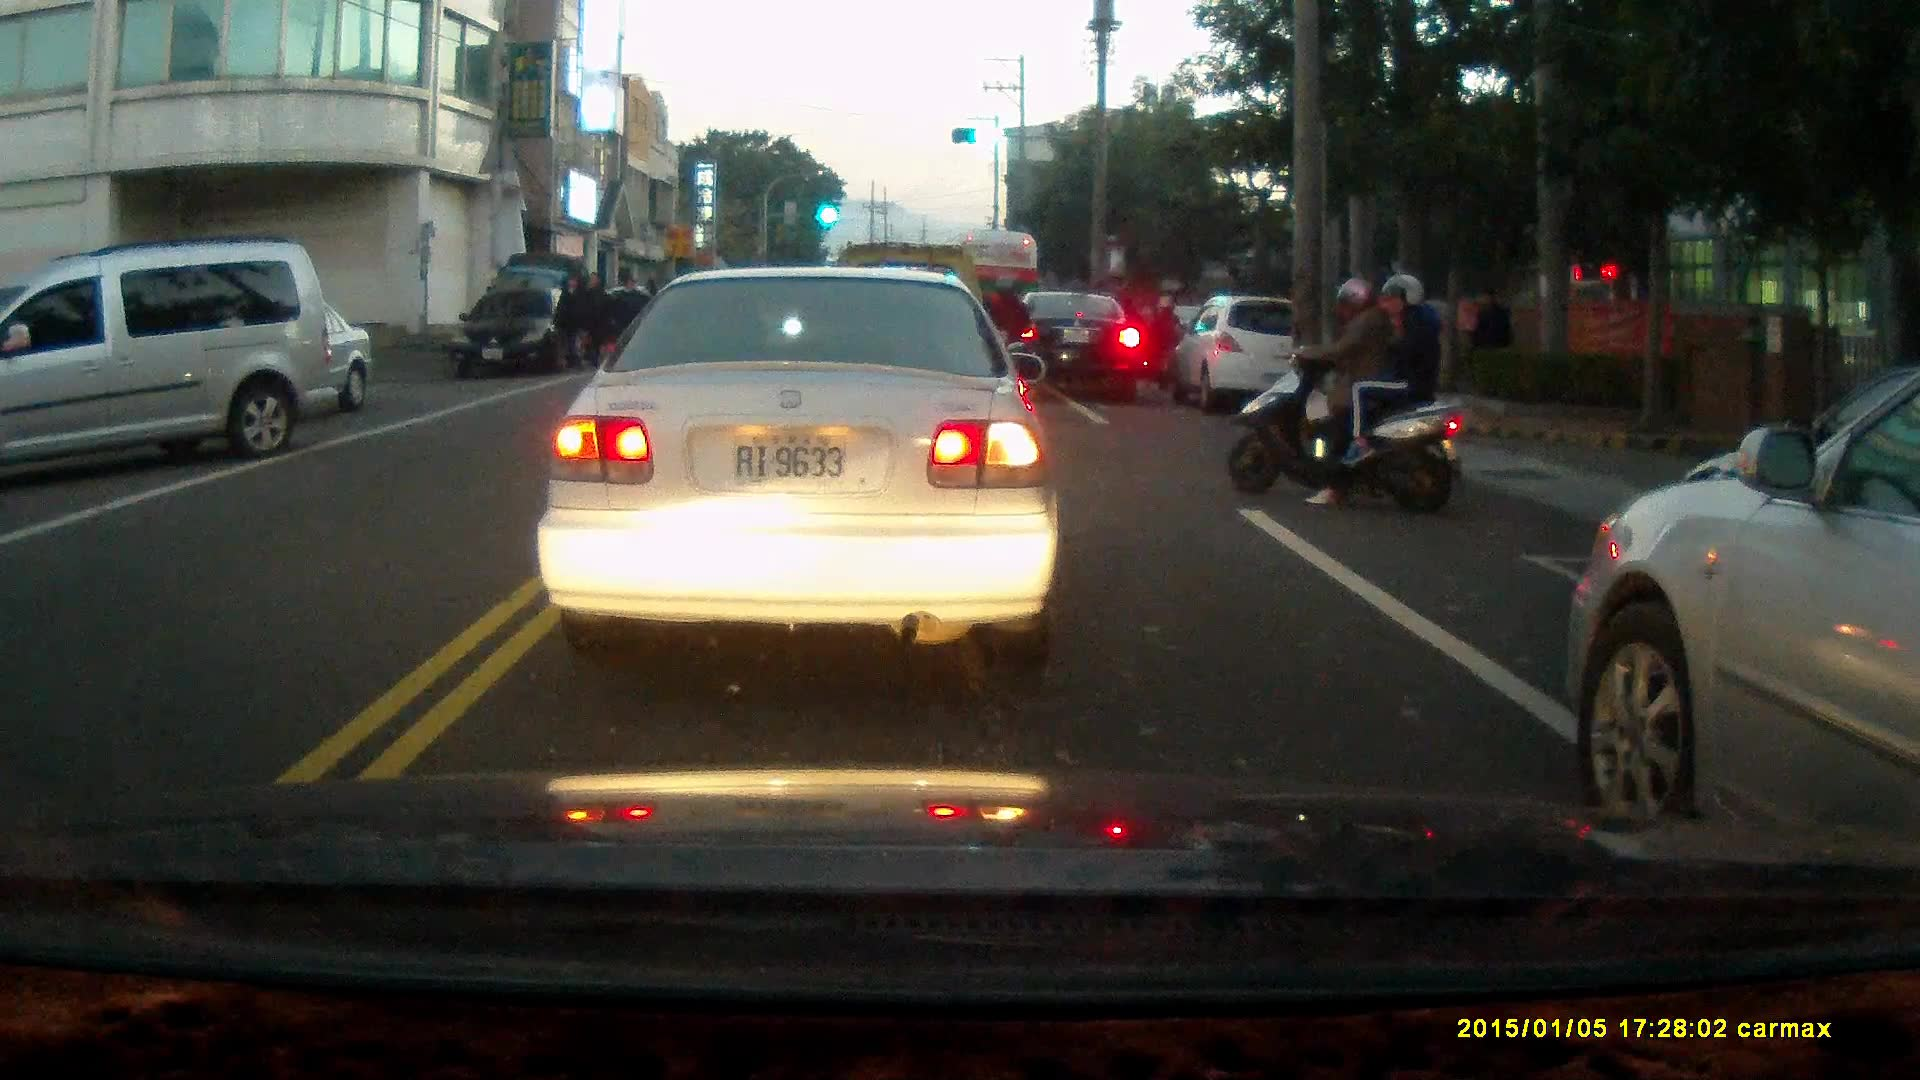pedestrian: (1466, 281, 1512, 382), (553, 270, 590, 375), (572, 272, 604, 376), (611, 275, 642, 364)
rider: (1219, 269, 1465, 522), (977, 271, 1035, 395), (1148, 290, 1185, 390)
vehicle: (536, 259, 1065, 679), (1565, 366, 1920, 851), (1, 243, 336, 481), (1180, 295, 1328, 404), (1007, 290, 1145, 401), (447, 284, 589, 381)
